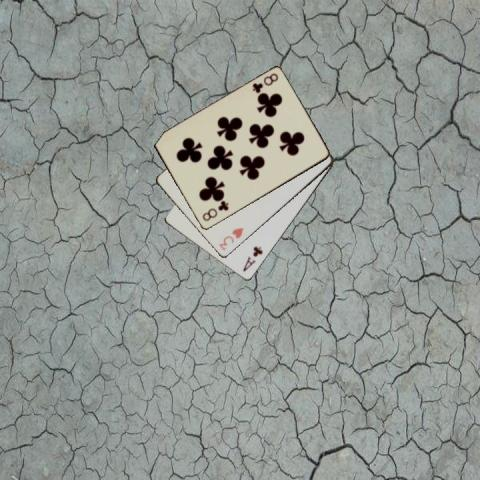3h: (216, 225, 245, 252)
8c: (250, 70, 280, 95), (199, 198, 230, 222)
Ac: (240, 244, 265, 273)
